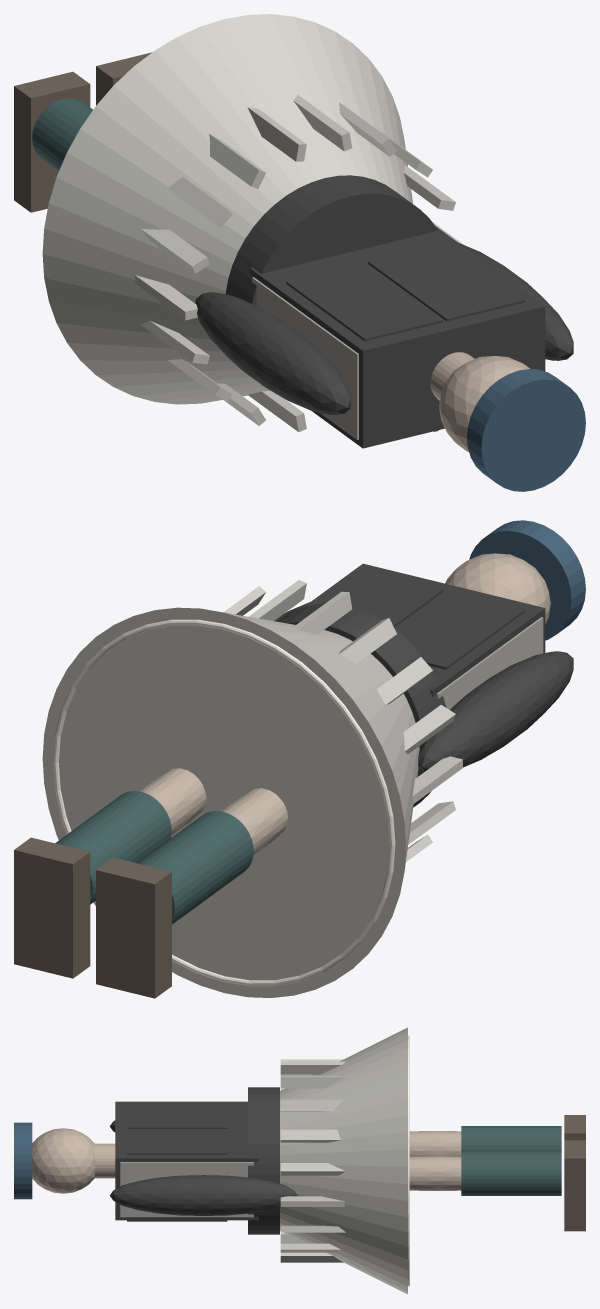
The model's file is MASTER_009_STAGE3_DETAIL.glb.
The picture shows the model from 3 angles, top to bottom: view 1: azimuth 30°, elevation 25°; view 2: azimuth 150°, elevation 25°; view 3: azimuth 270°, elevation 25°; orthographic projection. The views are drawn at different scales.
Visible parts, largest first — view 1: slot_lower_main__fustanellë, slot_upper_inner__këmishë, slot_waist__brez, slot_headwear__mbulesë_koke, slot_upper_inner_sleeve_L, slot_upper_outer__jelek/xhamadan_L, slot_upper_outer__jelek/xhamadan_R, slot_footwear__opinga_L, mannequin_torso, mannequin_head, slot_legwear__çorape_L, slot_upper_inner_sleeve_R (+14 smaller); view 2: slot_lower_main__fustanellë, slot_footwear__opinga_R, slot_footwear__opinga_L, slot_upper_inner_sleeve_L, slot_legwear__çorape_L, detail_fustanella_hem, slot_headwear__mbulesë_koke, slot_upper_outer__jelek/xhamadan_L, slot_legwear__çorape_R, slot_upper_inner__këmishë, slot_waist__brez, mannequin_head (+11 smaller); view 3: slot_lower_main__fustanellë, slot_upper_inner_sleeve_R, slot_legwear__çorape_R, slot_upper_inner__këmishë, slot_waist__brez, mannequin_head, slot_upper_outer__jelek/xhamadan_R, mannequin_torso, slot_legwear__çorape_L, slot_upper_outer__jelek/xhamadan_L, slot_footwear__opinga_R, mannequin_leg_R (+14 smaller).
Boxes of the visible parts, left/top/right/bottom form: slot_lower_main__fustanellë: left=42, top=14, right=412, bottom=404; slot_upper_inner__këmishë: left=250, top=226, right=545, bottom=448; slot_waist__brez: left=225, top=175, right=437, bottom=305; slot_headwear__mbulesë_koke: left=467, top=369, right=585, bottom=491; slot_upper_inner_sleeve_L: left=195, top=292, right=350, bottom=415; slot_upper_outer__jelek/xhamadan_L: left=286, top=262, right=443, bottom=341; slot_upper_outer__jelek/xhamadan_R: left=368, top=242, right=524, bottom=321; slot_footwear__opinga_L: left=14, top=71, right=90, bottom=212; mannequin_torso: left=252, top=277, right=358, bottom=439; mannequin_head: left=439, top=356, right=530, bottom=451; slot_legwear__çorape_L: left=32, top=98, right=92, bottom=171; slot_upper_inner_sleeve_R: left=459, top=243, right=573, bottom=360; slot_lower_main__fustanellë: left=42, top=607, right=419, bottom=997; slot_footwear__opinga_R: left=14, top=837, right=90, bottom=978; slot_footwear__opinga_L: left=96, top=857, right=171, bottom=998; slot_upper_inner_sleeve_L: left=418, top=651, right=573, bottom=771; slot_legwear__çorape_L: left=137, top=811, right=253, bottom=924; detail_fustanella_hem: left=53, top=619, right=395, bottom=986; slot_headwear__mbulesë_koke: left=469, top=520, right=585, bottom=640; slot_upper_outer__jelek/xhamadan_L: left=395, top=590, right=524, bottom=669; slot_legwear__çorape_R: left=55, top=791, right=171, bottom=904; slot_upper_inner__këmishë: left=304, top=563, right=545, bottom=696; slot_waist__brez: left=277, top=603, right=446, bottom=807; mannequin_head: left=445, top=553, right=550, bottom=624; slot_lower_main__fustanellë: left=280, top=1027, right=407, bottom=1294; slot_upper_inner_sleeve_R: left=110, top=1175, right=297, bottom=1215; slot_legwear__çorape_R: left=461, top=1151, right=561, bottom=1195; slot_upper_inner__këmishë: left=115, top=1101, right=258, bottom=1220; slot_waist__brez: left=248, top=1087, right=279, bottom=1234; mannequin_head: left=32, top=1128, right=95, bottom=1193; slot_upper_outer__jelek/xhamadan_R: left=127, top=1129, right=227, bottom=1221; mannequin_torso: left=120, top=1162, right=253, bottom=1217; slot_legwear__çorape_L: left=461, top=1126, right=561, bottom=1151; slot_upper_outer__jelek/xhamadan_L: left=127, top=1103, right=227, bottom=1128; slot_footwear__opinga_R: left=564, top=1140, right=585, bottom=1231; mannequin_leg_R: left=409, top=1156, right=461, bottom=1190.
Size of the model in its own units: 0.7991 by 0.7991 by 1.71.
